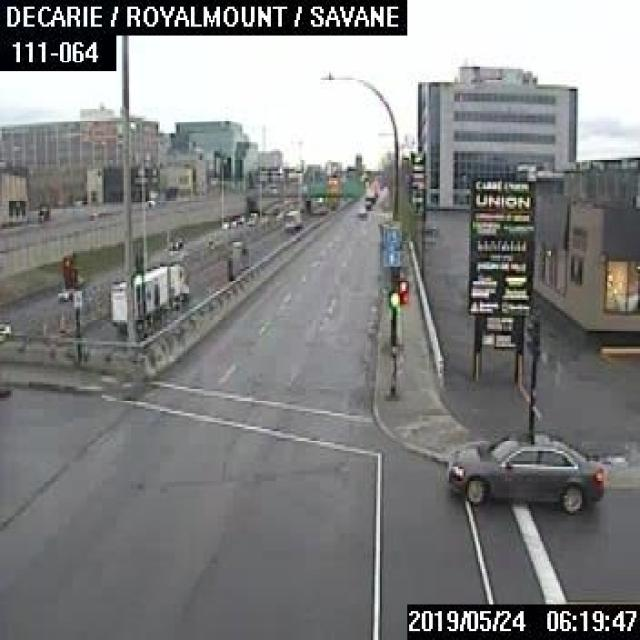vehicle: (442, 429, 604, 513), (109, 259, 191, 326), (56, 283, 83, 301), (282, 208, 302, 230), (167, 234, 182, 248)
